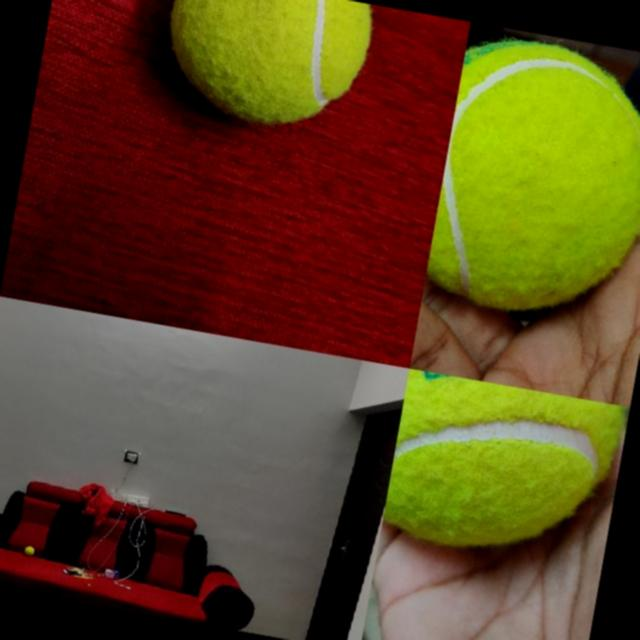Tennis Ball: (423, 29, 640, 328), (382, 368, 626, 570), (154, 0, 376, 141), (24, 545, 35, 556)
